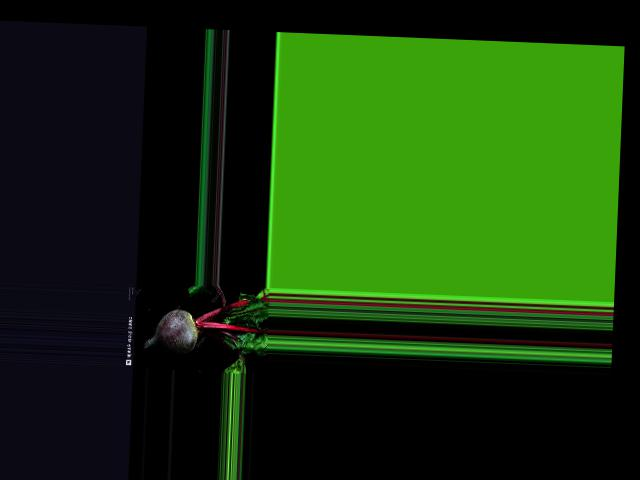beet: (142, 282, 269, 374)
